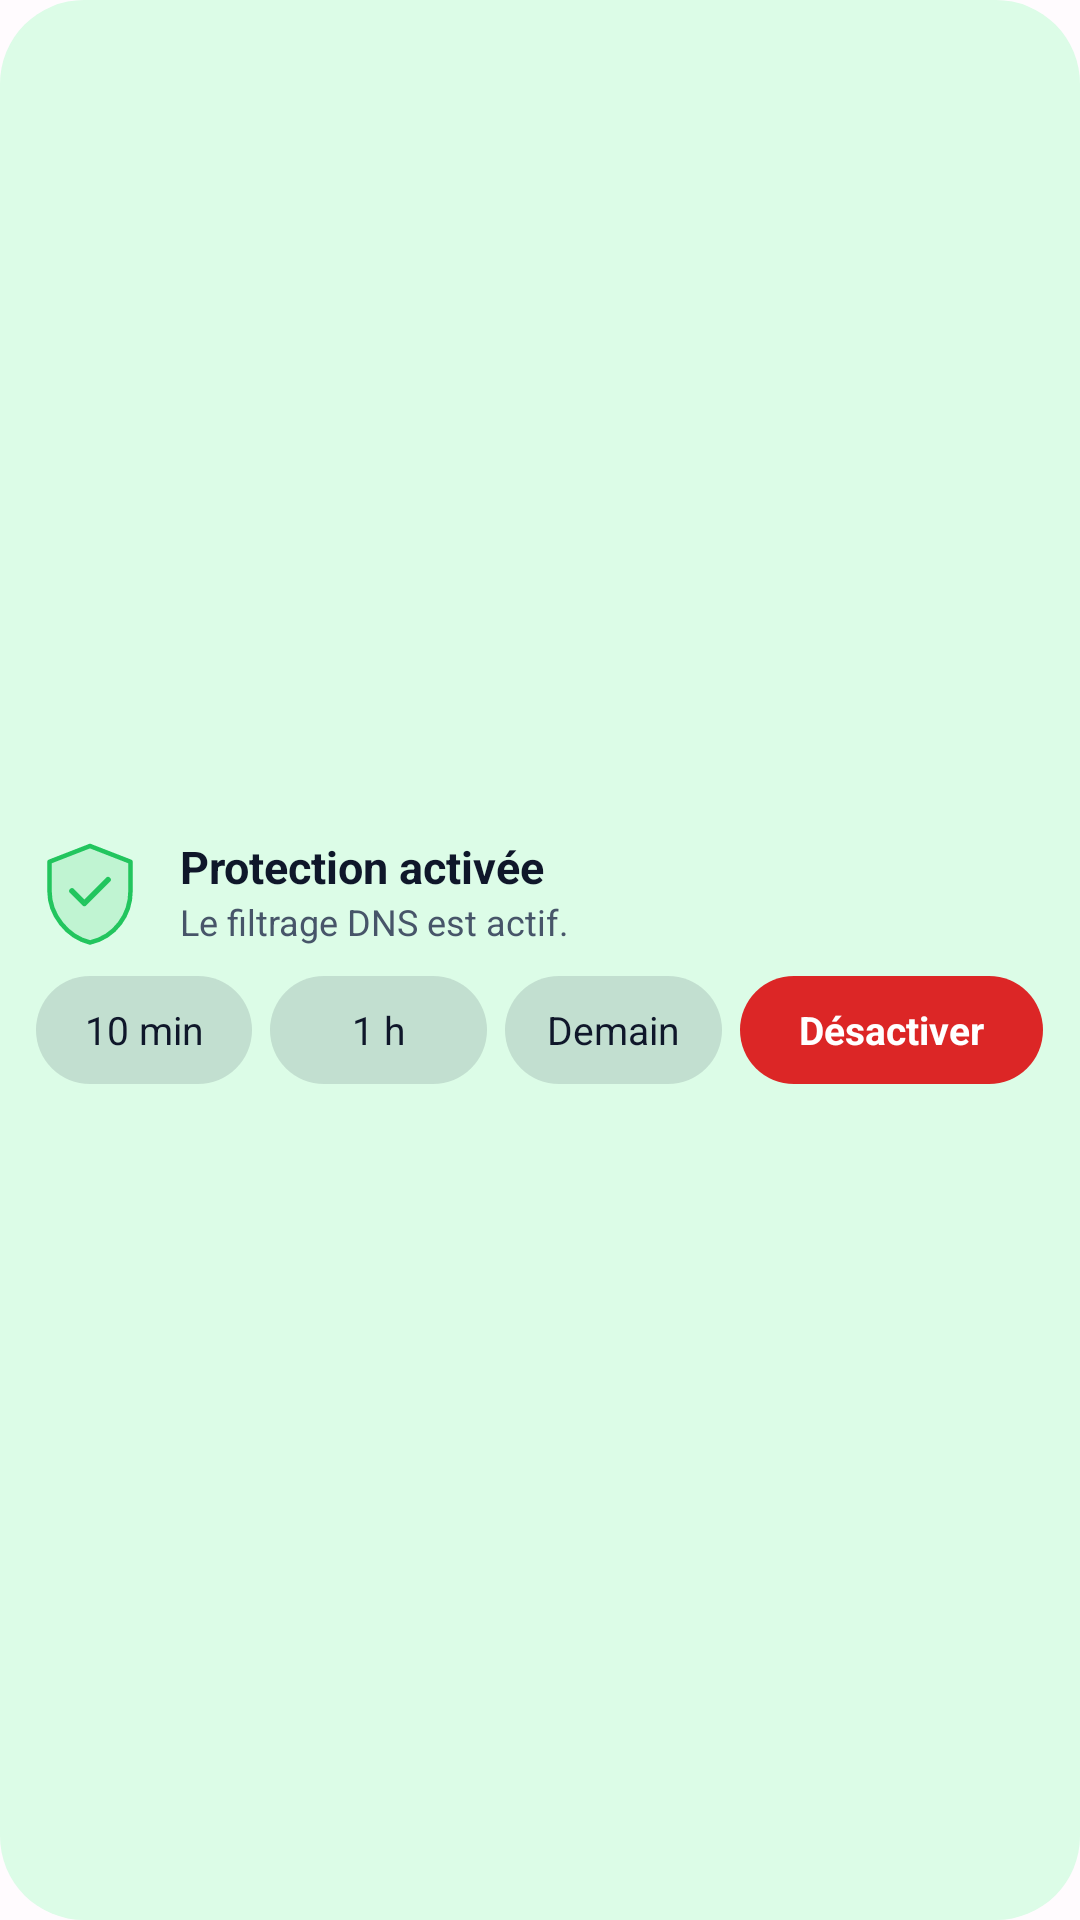

Named icons in this screenshot (1080 × 1920) and their centers, (x=x, y=y):
shield check: (x=90, y=894)
